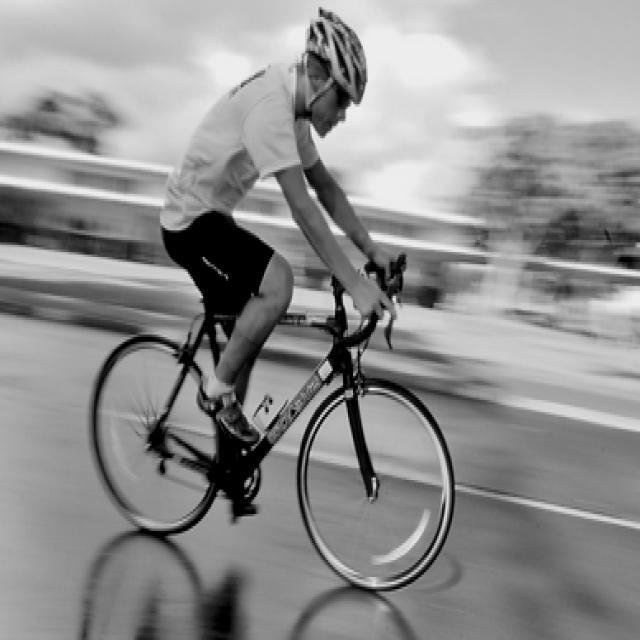Helmet: (300, 0, 378, 141)
